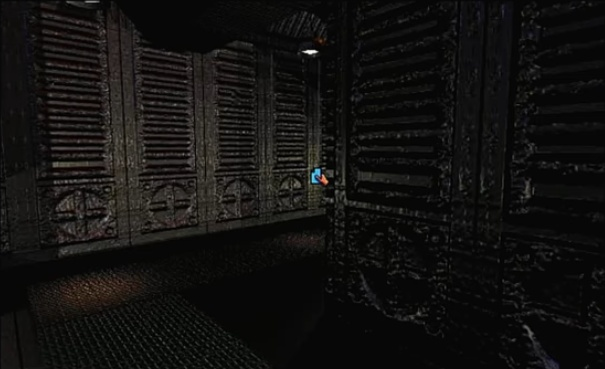Keep: (307, 164, 334, 187)
